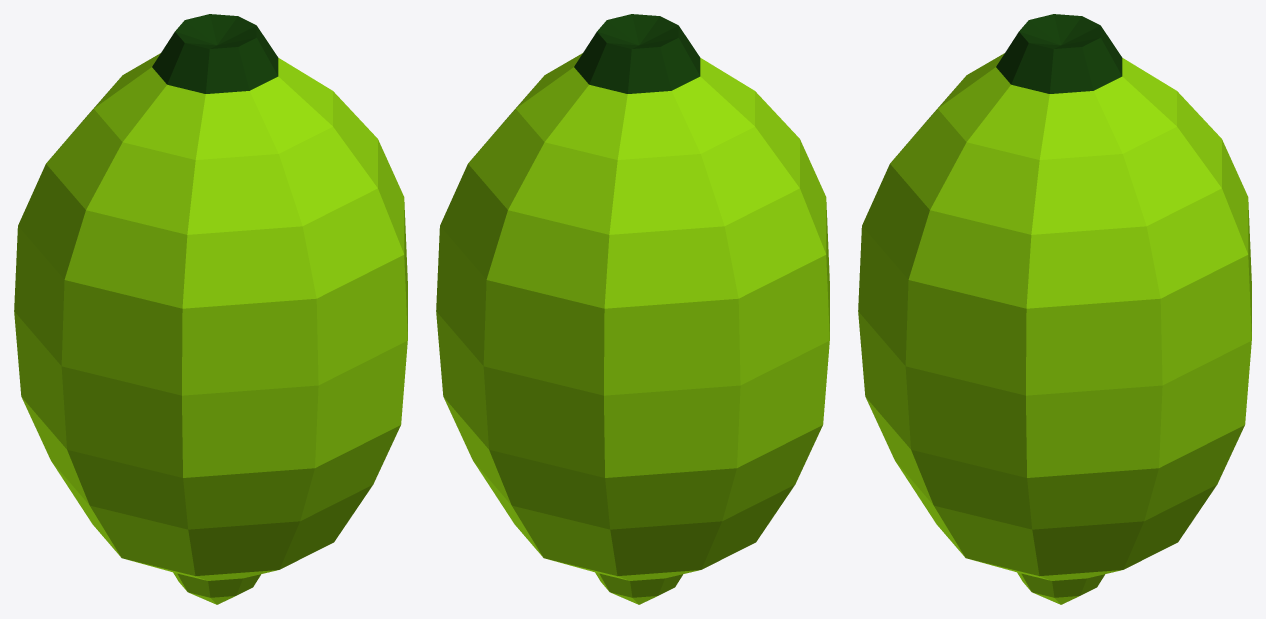
The picture shows the model from 3 angles, left to right: view 1: azimuth 30°, elevation 25°; view 2: azimuth 150°, elevation 25°; view 3: azimuth 270°, elevation 25°; orthographic projection.
Visible parts, largest first — view 1: Lemon_Sphere.007; view 2: Lemon_Sphere.007; view 3: Lemon_Sphere.007.
Part boxes in pixels (box(x1,y1,x2,y2)): Lemon_Sphere.007: box(14, 14, 407, 604); Lemon_Sphere.007: box(436, 14, 829, 604); Lemon_Sphere.007: box(858, 14, 1251, 604).
Bounding box in the file's own units: 1.68 × 2.66 × 1.66.
Materials: 1 (1 with a texture image).
